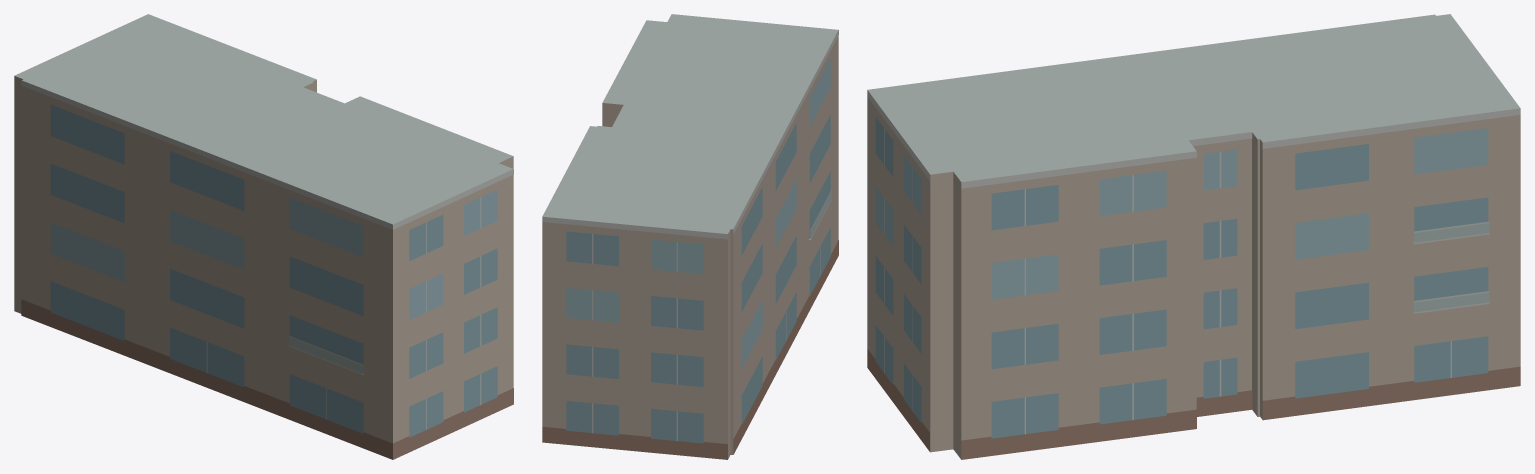
File: survey-upis-32954968.glb
The picture shows the model from 3 angles, left to right: view 1: azimuth 30°, elevation 25°; view 2: azimuth 150°, elevation 25°; view 3: azimuth 270°, elevation 25°; orthographic projection. The views are drawn at different scales.
Parts seen in each view (by area): view 1: survey-upis-32954968.tmp; view 2: survey-upis-32954968.tmp; view 3: survey-upis-32954968.tmp.
Part boxes in pixels (x1=…): survey-upis-32954968.tmp: x1=14, y1=14, x2=513, y2=459; survey-upis-32954968.tmp: x1=542, y1=14, x2=838, y2=459; survey-upis-32954968.tmp: x1=867, y1=14, x2=1520, y2=459.
Bounding box in the file's own units: 13.65 × 10.5 × 22.4.
